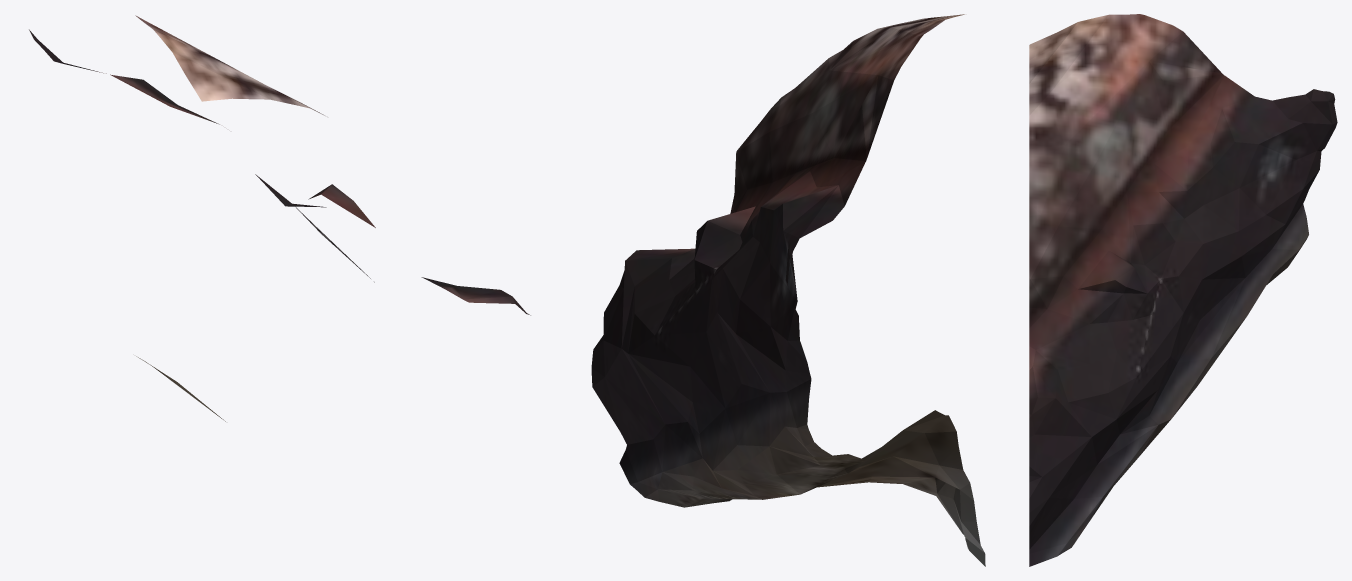
3 renders of one model, left to right at view 1: azimuth 30°, elevation 25°; view 2: azimuth 150°, elevation 25°; view 3: azimuth 270°, elevation 25°, orthographic. The views are drawn at different scales.
Bounding box in the file's own units: 0.2903 × 0.3918 × 0.2615.
Materials: 1 (1 with a texture image).
